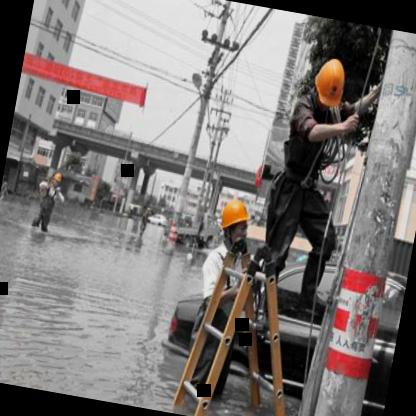helmet: (308, 52, 351, 113), (214, 194, 255, 253), (48, 167, 65, 188)
